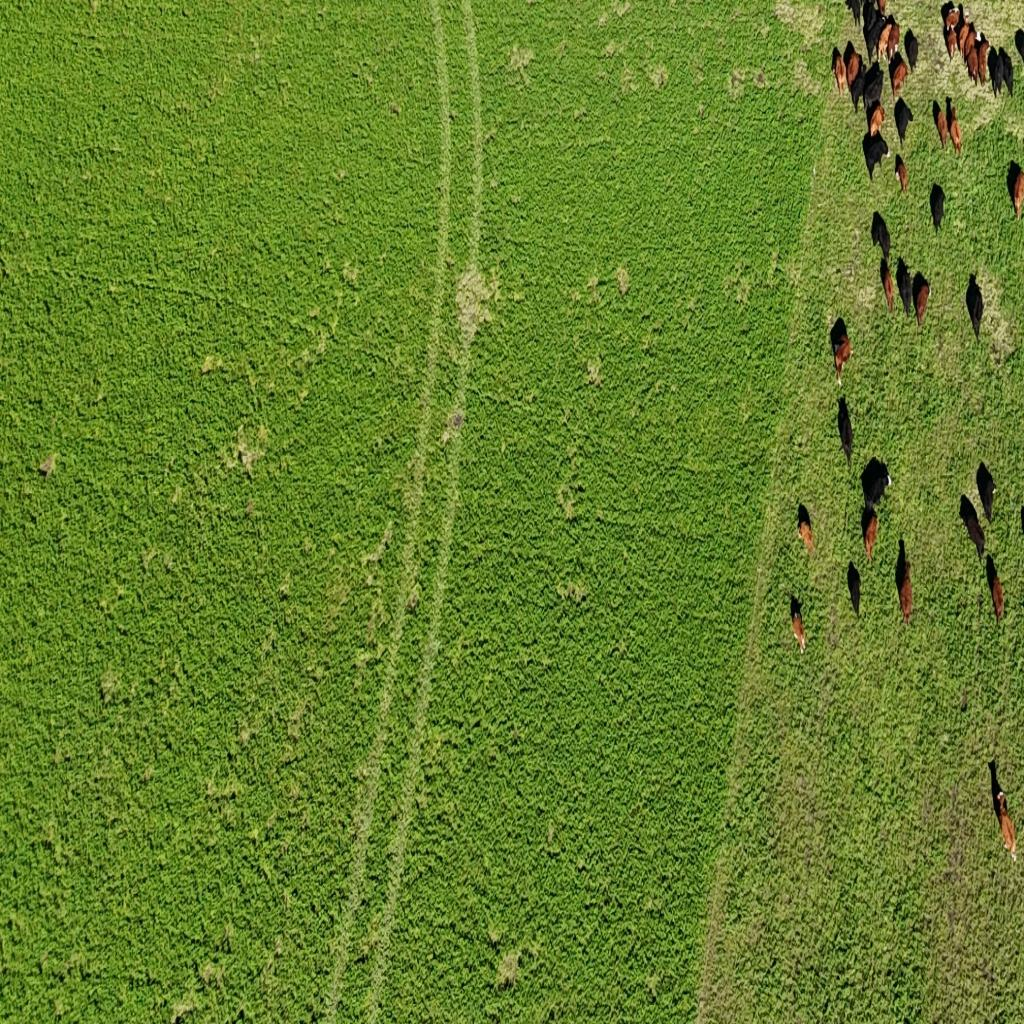cow: (861, 456, 891, 510), (862, 129, 890, 183), (830, 316, 851, 382), (965, 273, 984, 341), (997, 796, 1017, 860), (862, 62, 884, 118), (977, 460, 997, 518), (895, 256, 913, 317), (894, 96, 914, 150), (912, 270, 930, 330), (1006, 160, 1024, 220), (861, 501, 878, 564), (838, 395, 853, 465), (900, 553, 914, 623), (790, 595, 806, 654), (872, 210, 890, 262), (964, 37, 982, 86), (947, 98, 962, 156), (929, 180, 945, 234), (831, 45, 847, 97), (987, 46, 1003, 98), (847, 561, 861, 619), (880, 253, 894, 311), (868, 16, 885, 60), (968, 513, 984, 557), (944, 16, 960, 60), (904, 26, 918, 72), (992, 574, 1004, 623), (878, 17, 891, 61), (1003, 50, 1015, 97), (895, 153, 908, 195), (798, 519, 813, 553), (844, 0, 862, 28), (846, 46, 858, 88), (853, 66, 866, 104), (887, 23, 900, 59), (893, 63, 908, 94), (959, 11, 970, 53), (870, 105, 886, 133), (980, 40, 990, 84), (864, 7, 878, 36), (946, 5, 960, 29), (1017, 27, 1024, 74)
